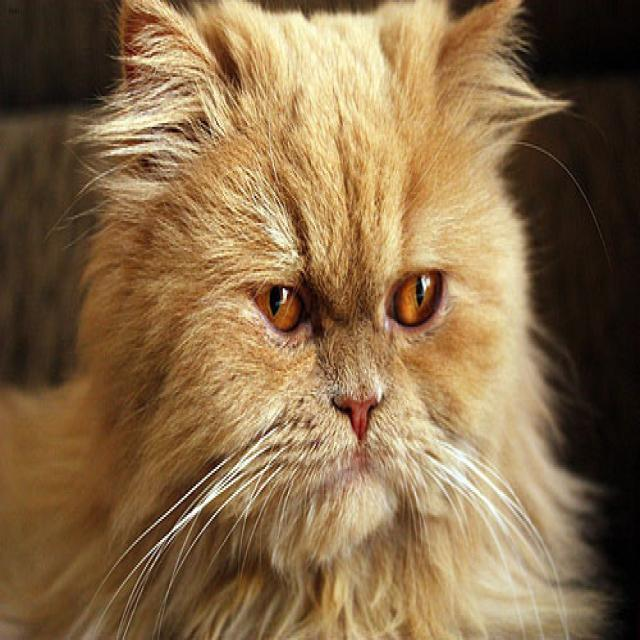Persian: (83, 0, 572, 567)
